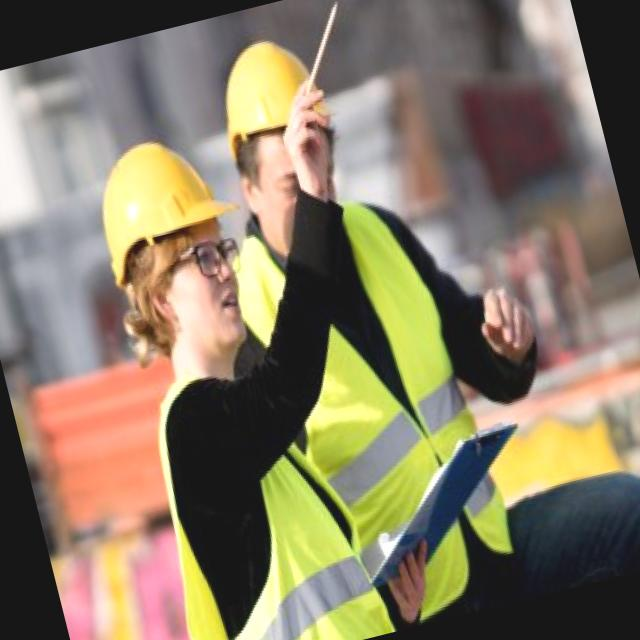helmet: (59, 109, 232, 272), (200, 20, 346, 174)
no-goggles: (160, 226, 252, 296)
vest: (238, 186, 536, 626), (114, 318, 398, 640)
